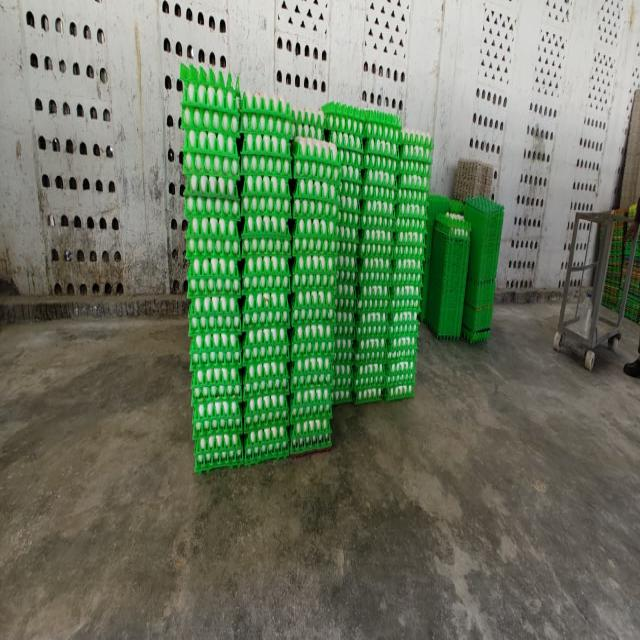egg_tray: (181, 67, 243, 471), (242, 96, 290, 464), (290, 139, 339, 453), (181, 67, 240, 296), (385, 131, 432, 400), (188, 217, 241, 440), (324, 103, 363, 402), (241, 95, 292, 304), (355, 153, 395, 401), (243, 252, 290, 463), (385, 175, 426, 400), (180, 66, 240, 217), (188, 232, 241, 401), (292, 139, 338, 324), (187, 216, 241, 369), (242, 176, 290, 330), (292, 139, 340, 286), (185, 137, 240, 258), (243, 320, 290, 461), (243, 291, 289, 431), (242, 175, 290, 308), (244, 325, 290, 463), (323, 103, 364, 254), (332, 183, 360, 402), (292, 191, 337, 323), (190, 327, 242, 438), (290, 322, 333, 452), (242, 214, 290, 329), (192, 366, 243, 472), (292, 139, 339, 254), (192, 331, 242, 437), (428, 211, 470, 335), (244, 358, 290, 463), (183, 121, 240, 205), (190, 328, 242, 420), (244, 360, 290, 463), (244, 363, 290, 463), (333, 225, 359, 401), (186, 214, 240, 298), (290, 319, 334, 421), (188, 251, 241, 335), (290, 322, 334, 420), (290, 322, 332, 422), (292, 294, 334, 394), (180, 65, 239, 136), (292, 198, 338, 289), (240, 95, 292, 175), (291, 354, 333, 453), (292, 199, 337, 290), (292, 137, 340, 221), (242, 249, 290, 331), (242, 175, 290, 255), (397, 133, 430, 247), (185, 153, 240, 220), (333, 255, 358, 402), (192, 365, 242, 438), (185, 152, 240, 218), (359, 200, 395, 300), (334, 254, 358, 401), (242, 323, 289, 396), (362, 113, 400, 202), (359, 195, 396, 284), (328, 118, 363, 212), (336, 179, 361, 309), (323, 104, 364, 183), (292, 216, 338, 286), (356, 227, 394, 311), (356, 229, 394, 312), (359, 201, 396, 286), (393, 205, 426, 298), (241, 176, 290, 238), (292, 255, 336, 324), (359, 172, 394, 258), (354, 310, 387, 401), (183, 128, 240, 180), (363, 122, 399, 202), (385, 311, 417, 399), (426, 266, 464, 339), (291, 386, 332, 453), (394, 203, 426, 285), (185, 173, 240, 220), (336, 181, 362, 280), (355, 285, 388, 363), (356, 287, 390, 362), (356, 285, 389, 362), (240, 93, 293, 140), (398, 132, 432, 205), (292, 136, 340, 185), (186, 174, 239, 217), (354, 334, 387, 400), (190, 331, 242, 372), (242, 252, 290, 296), (242, 133, 290, 177), (360, 199, 395, 258), (336, 268, 358, 361), (242, 357, 288, 400), (242, 290, 290, 331), (194, 433, 244, 472), (244, 422, 289, 465), (356, 308, 388, 364), (363, 139, 398, 189), (242, 175, 289, 212), (388, 299, 418, 356), (356, 309, 388, 362), (362, 139, 398, 186), (336, 249, 358, 323), (290, 323, 334, 360), (325, 113, 364, 154), (323, 102, 366, 139), (388, 311, 418, 363), (290, 417, 332, 454), (336, 243, 359, 310), (292, 385, 332, 423), (338, 179, 362, 242), (339, 164, 362, 229), (396, 200, 428, 245), (388, 311, 418, 358), (196, 439, 241, 470), (394, 240, 424, 286), (336, 293, 356, 362), (363, 110, 402, 145), (356, 284, 390, 324), (354, 362, 386, 404), (338, 147, 364, 198), (354, 361, 386, 402), (390, 283, 421, 325), (392, 249, 423, 290), (336, 257, 359, 312), (400, 130, 434, 165), (360, 255, 394, 290), (384, 361, 414, 400), (384, 361, 414, 399), (332, 355, 354, 404), (398, 146, 430, 179), (389, 358, 415, 398), (398, 174, 430, 206), (397, 174, 430, 205), (397, 175, 430, 206), (436, 211, 470, 240), (292, 109, 324, 139), (389, 282, 421, 312), (387, 334, 416, 363), (400, 128, 434, 151), (424, 207, 434, 278), (361, 181, 396, 201), (385, 377, 414, 400), (185, 130, 218, 150), (254, 328, 283, 346), (192, 300, 224, 316), (192, 296, 236, 307), (246, 315, 286, 327), (315, 323, 332, 346), (209, 312, 239, 325), (244, 238, 290, 246), (205, 451, 234, 463), (186, 130, 209, 145), (202, 219, 236, 228), (266, 311, 288, 324), (206, 421, 241, 429), (370, 229, 392, 241), (186, 200, 200, 217), (298, 335, 313, 349), (192, 297, 215, 305), (190, 321, 209, 330), (190, 225, 206, 235), (420, 152, 432, 163), (272, 328, 283, 339), (365, 155, 385, 161), (344, 244, 356, 254), (390, 325, 403, 334), (326, 114, 340, 122), (452, 242, 463, 252), (344, 199, 356, 208), (339, 150, 354, 157), (400, 170, 426, 174), (192, 219, 202, 228), (331, 140, 346, 146), (322, 405, 330, 416), (300, 324, 314, 330), (194, 412, 202, 421), (218, 324, 236, 328), (243, 242, 250, 252), (380, 209, 394, 214), (424, 178, 428, 194), (434, 233, 442, 241), (350, 184, 360, 190), (251, 328, 280, 330), (252, 217, 264, 221), (277, 349, 285, 355), (188, 131, 194, 139), (194, 406, 201, 412), (327, 164, 334, 170), (292, 399, 294, 419), (229, 139, 234, 147), (258, 315, 264, 321), (346, 142, 355, 146), (299, 291, 308, 295), (187, 132, 194, 137), (307, 201, 314, 206), (218, 184, 225, 189), (385, 218, 392, 223), (403, 325, 410, 330), (246, 422, 254, 426), (318, 180, 326, 184), (422, 208, 426, 216), (304, 158, 310, 163), (363, 190, 367, 197), (318, 274, 323, 279), (374, 187, 386, 189), (359, 306, 366, 309), (349, 257, 356, 260), (248, 322, 255, 325), (361, 278, 365, 283), (361, 264, 366, 268), (358, 155, 363, 159), (324, 307, 330, 310), (294, 327, 298, 331), (184, 107, 188, 111), (198, 246, 202, 250), (257, 369, 262, 372), (192, 184, 195, 189), (224, 165, 229, 168), (231, 142, 234, 147), (243, 208, 246, 213), (325, 106, 330, 109), (396, 233, 400, 236), (348, 331, 352, 334), (390, 143, 394, 146), (250, 407, 254, 410), (308, 300, 314, 302), (465, 246, 468, 250), (220, 161, 223, 165), (340, 220, 346, 222), (366, 261, 372, 263), (420, 233, 422, 238), (236, 157, 238, 162), (294, 200, 296, 205), (208, 412, 210, 417), (404, 253, 414, 254), (307, 167, 312, 169), (216, 416, 219, 419), (198, 393, 201, 396), (422, 234, 424, 238), (208, 413, 210, 417), (356, 143, 358, 147), (330, 184, 334, 186), (332, 194, 336, 196), (215, 240, 222, 241), (214, 155, 221, 156), (363, 221, 364, 228), (200, 132, 203, 134), (332, 283, 334, 286), (208, 407, 210, 410), (200, 132, 202, 135), (234, 201, 237, 203), (188, 196, 190, 199), (389, 211, 392, 213), (298, 182, 300, 185), (310, 191, 312, 194), (333, 280, 334, 285), (390, 368, 391, 372), (256, 298, 258, 300), (208, 188, 212, 189), (332, 282, 333, 285), (399, 253, 402, 254), (302, 412, 305, 413), (358, 185, 359, 188), (195, 429, 197, 430), (401, 168, 402, 170), (237, 397, 239, 398), (236, 202, 237, 204), (371, 216, 373, 217), (384, 211, 386, 212), (345, 333, 346, 334), (271, 344, 272, 345), (421, 208, 422, 209), (419, 295, 419, 297), (208, 440, 208, 441), (383, 355, 383, 356), (287, 373, 287, 375), (265, 373, 265, 374), (264, 370, 266, 370), (268, 302, 268, 304), (300, 302, 302, 302), (356, 248, 356, 250), (250, 304, 250, 304), (214, 423, 214, 427), (234, 414, 234, 414), (248, 458, 248, 460), (284, 294, 286, 294), (305, 409, 305, 410), (313, 292, 315, 292), (363, 224, 363, 226), (361, 296, 361, 297), (373, 270, 375, 270), (357, 193, 357, 196), (396, 295, 396, 296)
